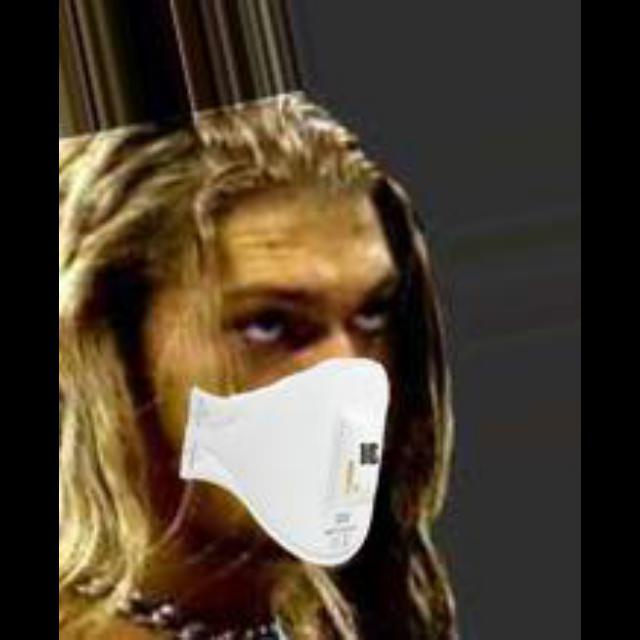suspicion: (146, 172, 430, 566)
